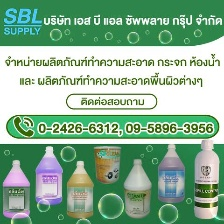insecticide: (192, 136, 220, 221), (121, 155, 152, 220), (1, 156, 31, 223), (156, 141, 186, 205), (34, 144, 63, 207), (65, 157, 94, 219), (91, 144, 123, 185)
